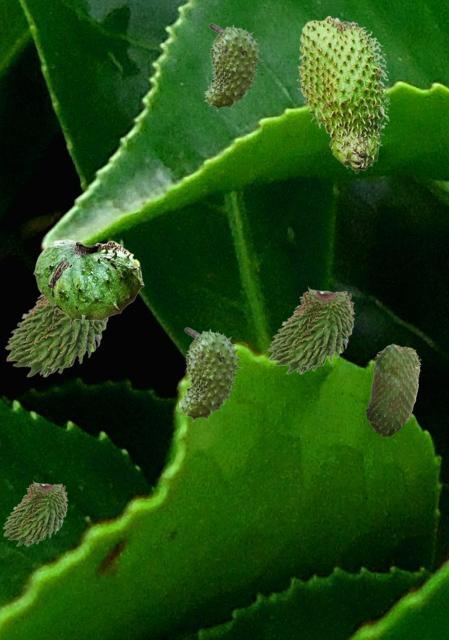guyabano: (296, 15, 390, 173), (33, 239, 143, 325), (4, 294, 108, 376), (267, 286, 354, 373), (178, 327, 242, 421), (203, 23, 263, 110), (365, 343, 420, 437), (2, 480, 67, 545)
